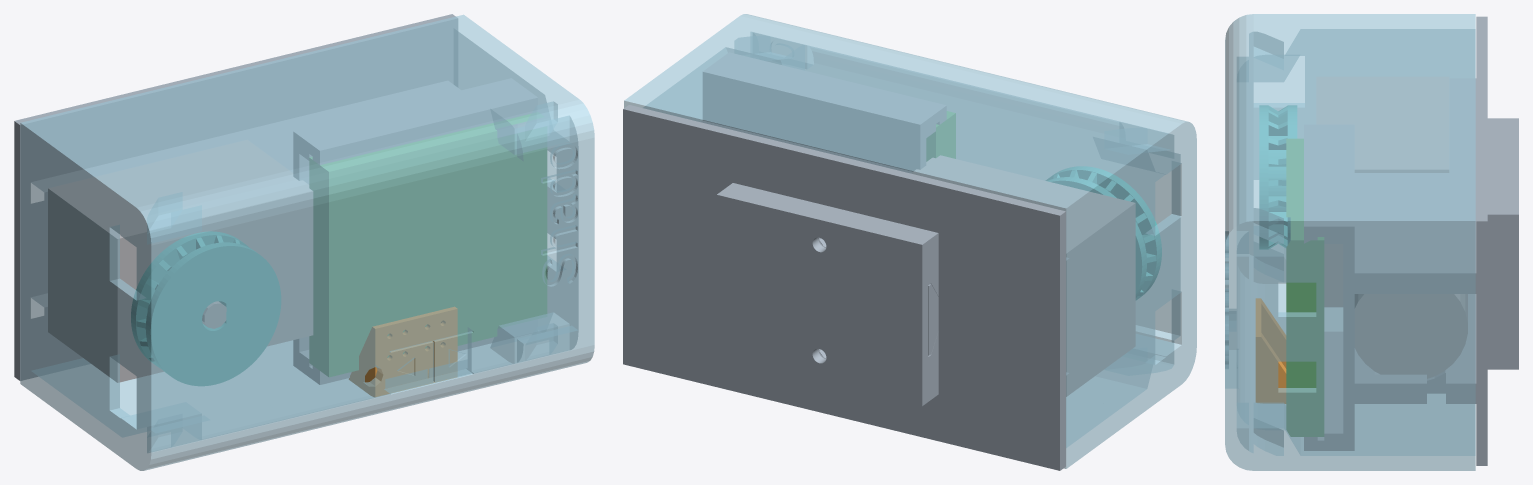
The model's file is full_assembly.glb.
3 renders of one model, left to right at view 1: azimuth 30°, elevation 25°; view 2: azimuth 150°, elevation 25°; view 3: azimuth 270°, elevation 25°, orthographic. The views are drawn at different scales.
Parts seen in each view (by area): view 1: static_6, static_5, static_7, static_1, GearNode, static_3; view 2: static_5, static_6, static_4, static_1, GearNode, static_7; view 3: static_6, static_5, static_1, static_7, static_4, GearNode, static_3.
Part boxes in pixels (x1,y1,x2,y2): static_6: (20,14,594,470); static_5: (14,14,537,384); static_7: (309,113,546,376); static_1: (48,140,312,382); GearNode: (131,231,280,385); static_3: (349,307,457,396); static_5: (623,52,1068,470); static_6: (624,14,1196,468); static_4: (716,183,938,406); static_1: (911,155,1135,396); GearNode: (1046,166,1161,299); static_7: (926,111,955,161); static_6: (1225,14,1475,470); static_5: (1304,16,1487,465); static_1: (1316,77,1467,378); static_7: (1286,139,1323,436); static_4: (1487,118,1518,369); GearNode: (1259,105,1296,249); static_3: (1256,298,1286,403).
Size of the model in its own units: 129 by 72.65 by 77.35.
